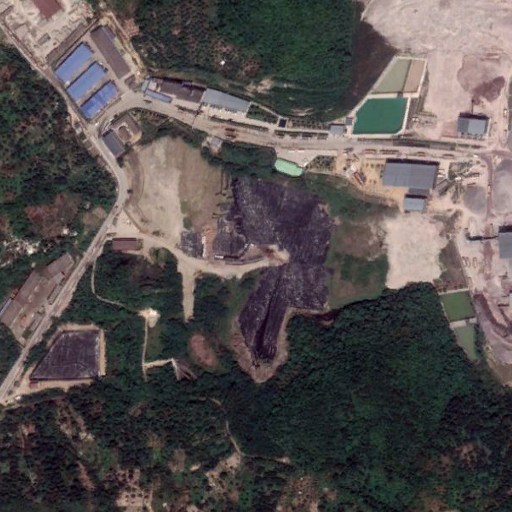lf: (119, 130, 332, 365)
